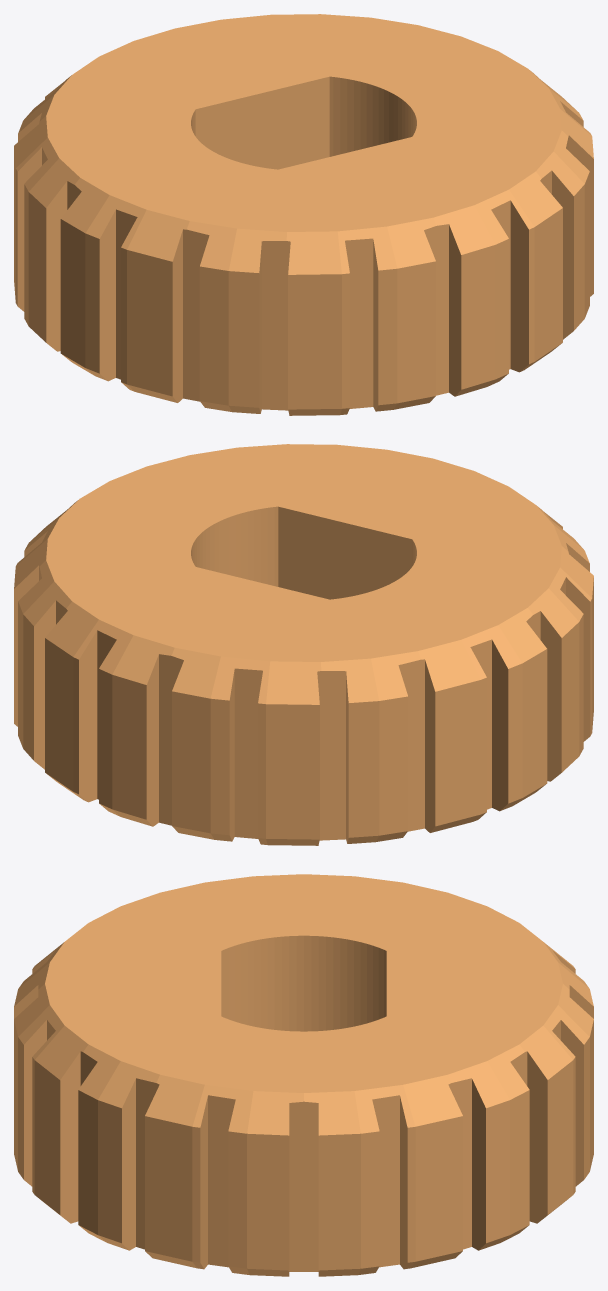
The model's file is racer-wheel.glb.
3 renders of one model, top to bottom at view 1: azimuth 30°, elevation 25°; view 2: azimuth 150°, elevation 25°; view 3: azimuth 270°, elevation 25°, orthographic.
Visible parts, largest first — view 1: racer-wheel; view 2: racer-wheel; view 3: racer-wheel.
Boxes of the visible parts, left/top/right/bottom form: racer-wheel: left=14, top=14, right=593, bottom=415; racer-wheel: left=14, top=444, right=593, bottom=845; racer-wheel: left=14, top=874, right=593, bottom=1276.
Bounding box in the file's own units: 0.0179 × 0.006 × 0.0179.
